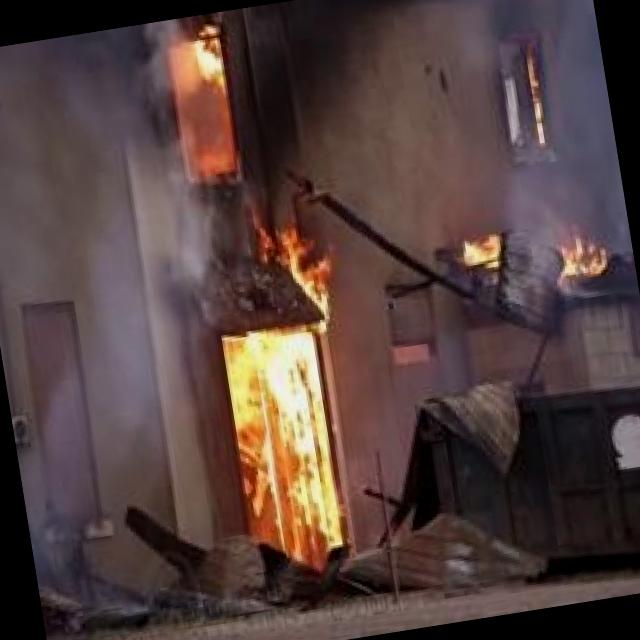fire: (222, 317, 353, 564), (147, 10, 250, 176)
